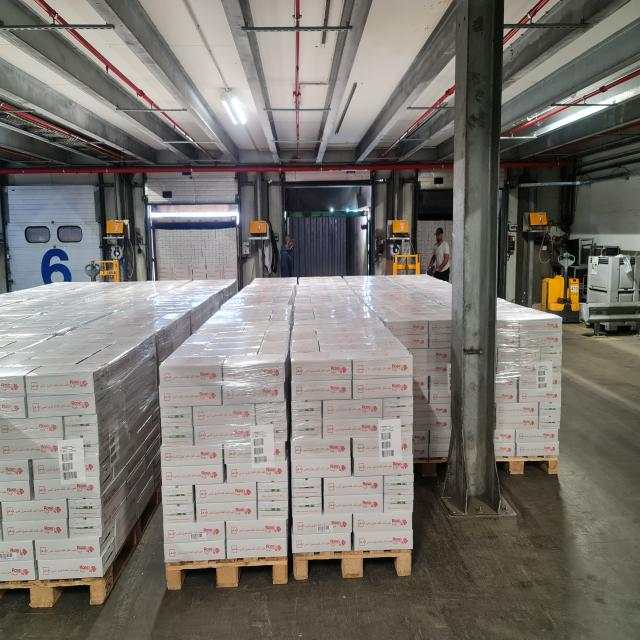Carton: (159, 274, 452, 562), (19, 281, 237, 579), (494, 297, 560, 459)
